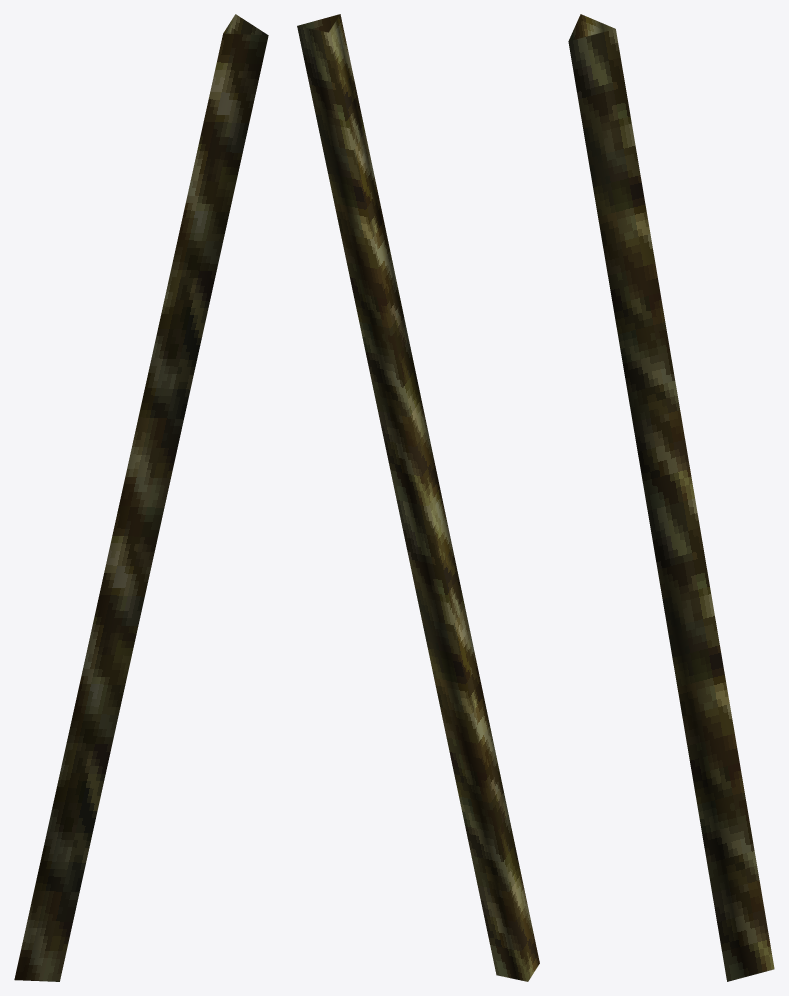
Rendered from OVERHILL_A_01_ROPE_LINE_05.fbx.
3 renders of one model, left to right at view 1: azimuth 30°, elevation 25°; view 2: azimuth 210°, elevation 25°; view 3: azimuth 270°, elevation 25°, orthographic. The views are drawn at different scales.
Parts seen in each view (by area): view 1: OVERHILL_A_01_ROPE_LINE_05; view 2: OVERHILL_A_01_ROPE_LINE_05; view 3: OVERHILL_A_01_ROPE_LINE_05.
Part boxes in pixels (x1,y1,x2,y2): OVERHILL_A_01_ROPE_LINE_05: (14, 14, 268, 981); OVERHILL_A_01_ROPE_LINE_05: (297, 14, 539, 981); OVERHILL_A_01_ROPE_LINE_05: (568, 14, 774, 981).
Bounding box in the file's own units: 1961 × 10651 × 1961.
1 material, 1 textured.
